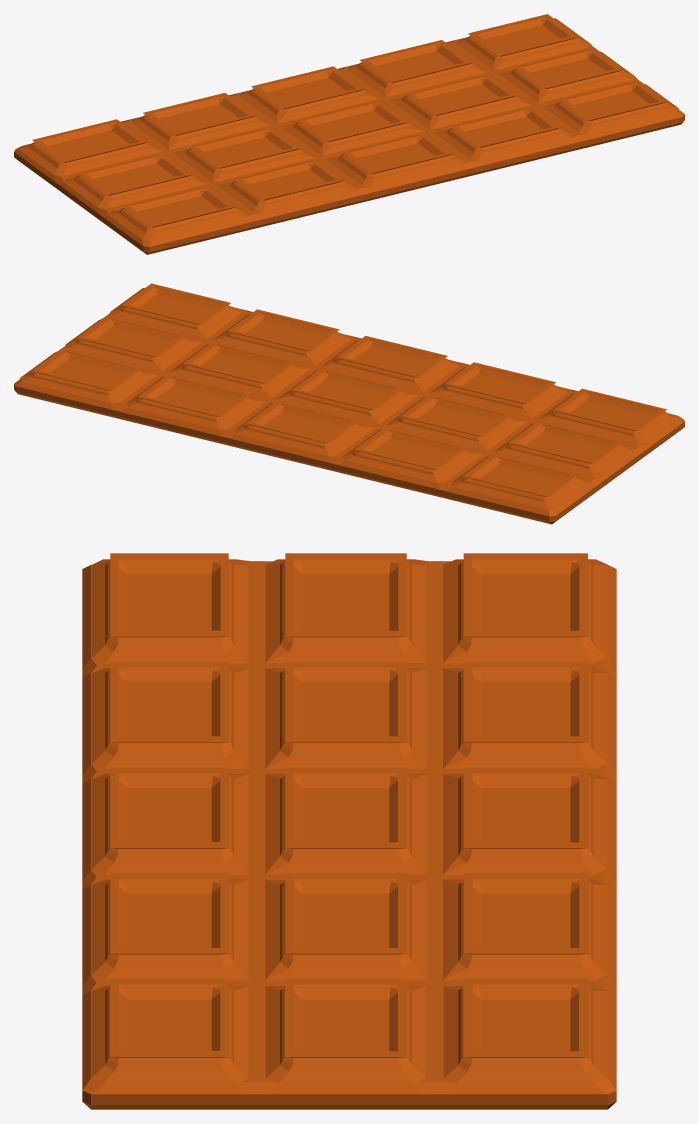
Rendered from choco_kansei.fbx.
3 views of the same model, one above another, from view 1: azimuth 30°, elevation 25°; view 2: azimuth 150°, elevation 25°; view 3: azimuth 270°, elevation 25° (orthographic). The views are drawn at different scales.
Parts seen in each view (by area): view 1: Cube; view 2: Cube; view 3: Cube.
Part boxes in pixels (x1=…): Cube: x1=14, y1=14, x2=684, y2=254; Cube: x1=14, y1=283, x2=684, y2=524; Cube: x1=82, y1=553, x2=616, y2=1109.
Size of the model in its own units: 1467 by 56.55 by 626.
1 material, 1 textured.
